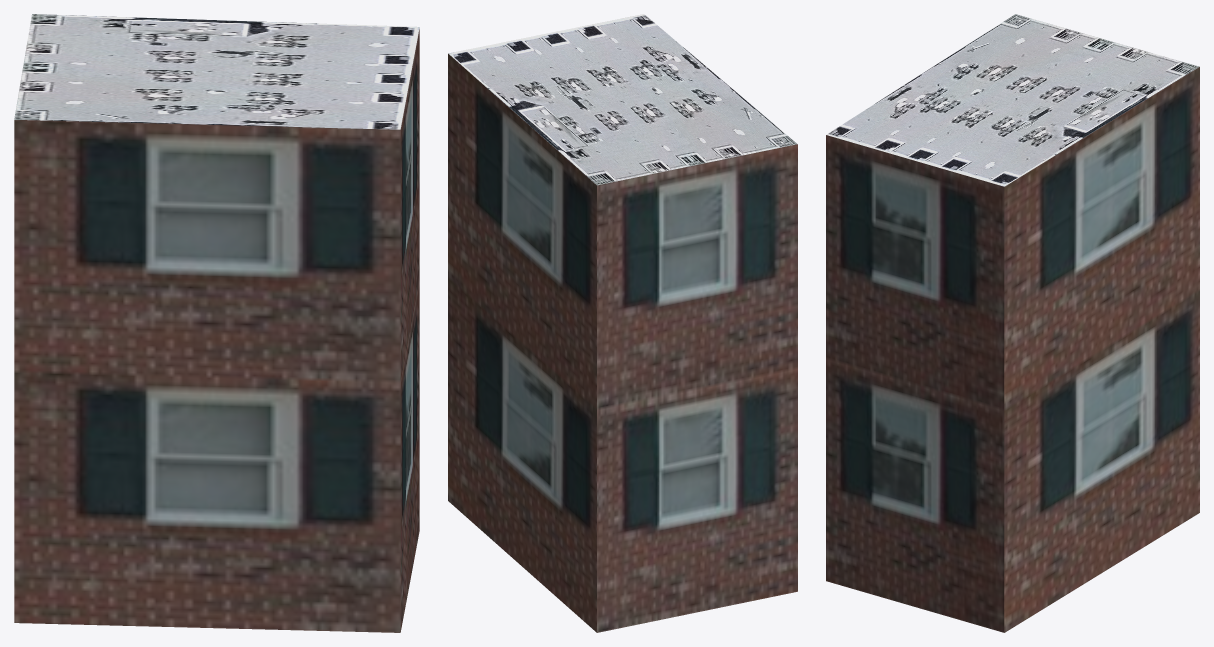
The model's file is ResTex__3242.fbx.
The picture shows the model from 3 angles, left to right: view 1: azimuth 30°, elevation 25°; view 2: azimuth 150°, elevation 25°; view 3: azimuth 270°, elevation 25°; orthographic projection. The views are drawn at different scales.
Visible parts, largest first — view 1: CityEngineMaterial_14_m, CityEngineMaterial_4_m; view 2: CityEngineMaterial_14_m, CityEngineMaterial_4_m; view 3: CityEngineMaterial_14_m, CityEngineMaterial_4_m.
Boxes of the visible parts, x1=… form: CityEngineMaterial_14_m: x1=14, y1=29, x2=419, y2=632; CityEngineMaterial_4_m: x1=14, y1=14, x2=419, y2=129; CityEngineMaterial_14_m: x1=448, y1=53, x2=797, y2=632; CityEngineMaterial_4_m: x1=448, y1=14, x2=797, y2=185; CityEngineMaterial_14_m: x1=826, y1=67, x2=1199, y2=632; CityEngineMaterial_4_m: x1=826, y1=14, x2=1199, y2=186.
Size of the model in its own units: 4.98 by 6 by 4.56.
Materials: 2 (2 with a texture image).
